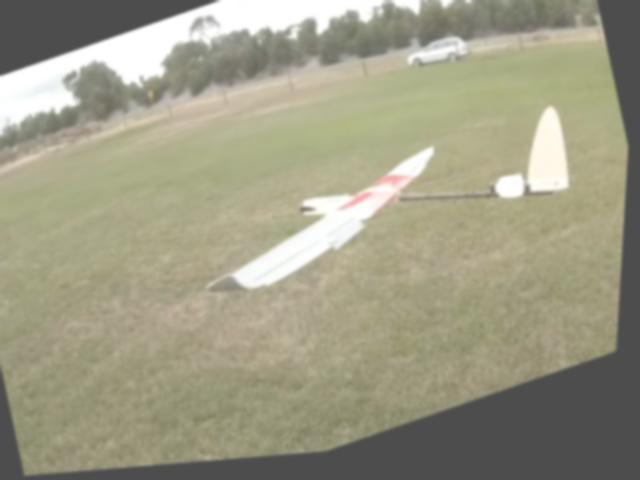uav: (175, 91, 594, 334)
